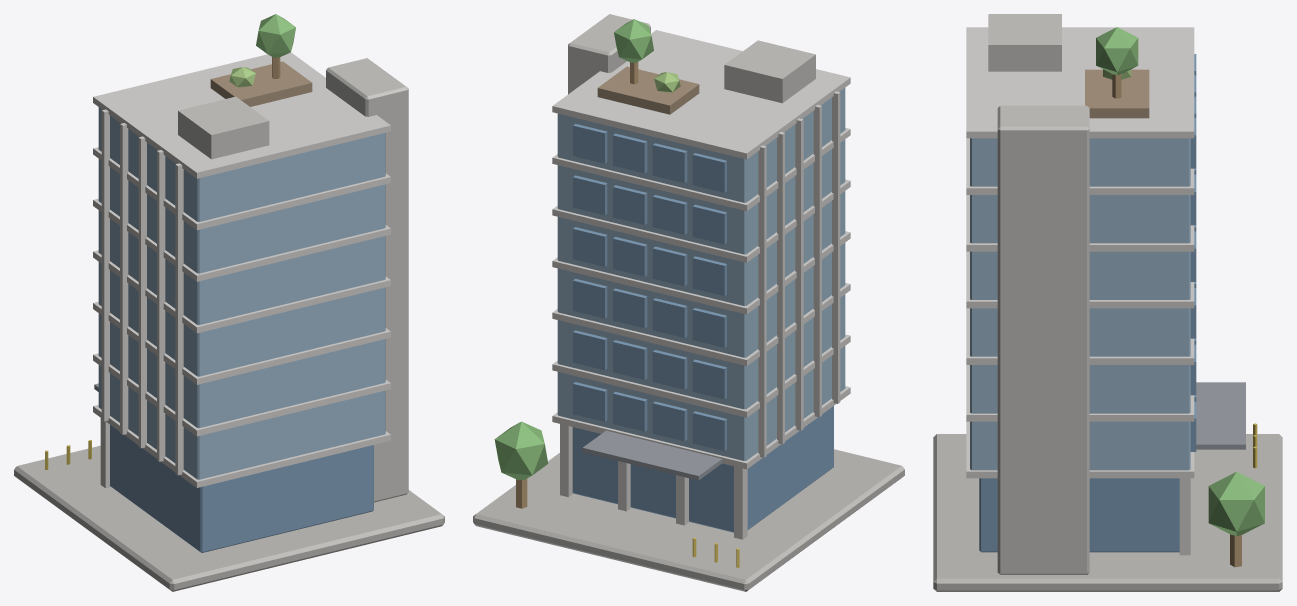
File: comercial__escritorio.glb
3 views of the same model, side by side, from view 1: azimuth 30°, elevation 25°; view 2: azimuth 150°, elevation 25°; view 3: azimuth 270°, elevation 25° (orthographic). The views are drawn at different scales.
Visible parts, largest first — view 1: comercial__escritorio; view 2: comercial__escritorio; view 3: comercial__escritorio.
Part boxes in pixels (box(x1,y1,x2,y2)): comercial__escritorio: box(14, 14, 444, 591); comercial__escritorio: box(473, 14, 904, 591); comercial__escritorio: box(933, 14, 1282, 591).
Bounding box in the file's own units: 1.9 × 3.12 × 1.9.
